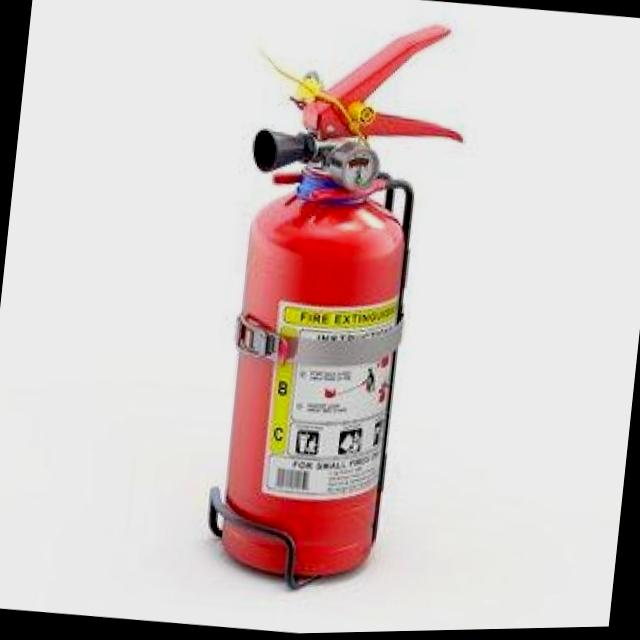FireExtinguisher: (198, 0, 479, 599)
